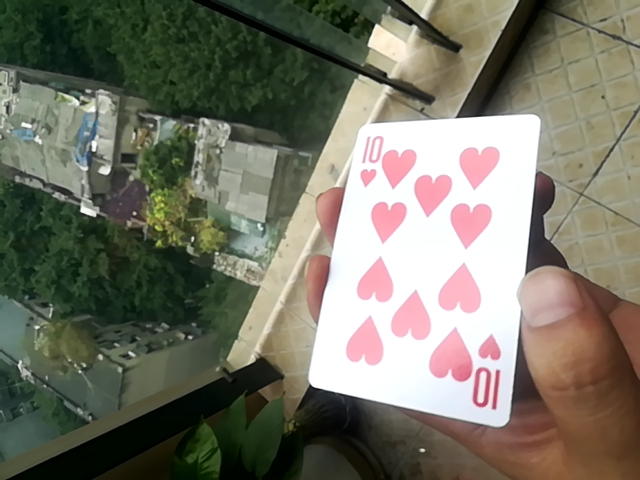hx 10: (308, 109, 542, 428)
